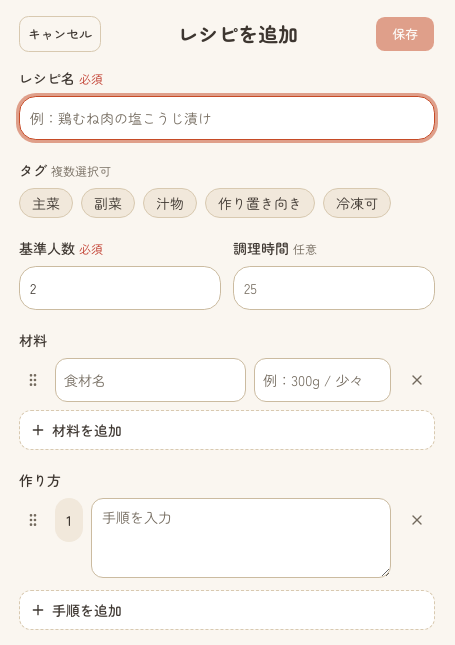
Test case: RecipeFormClient › RFC-04: API が失敗レスポンスのときエラーメッセージを表示する
Type "肉じゃが" into the field labelled "レシピ名 必須" at {"x": 227, "y": 118}, box x1=19 y1=96 x2=435 y2=140
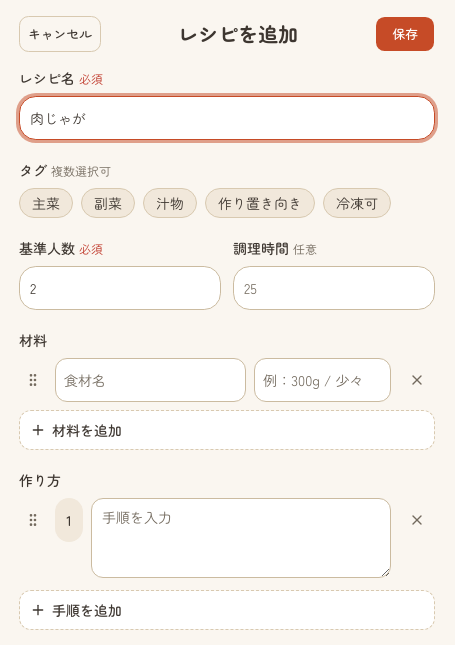
Click the button "保存" at {"x": 405, "y": 34}, box x1=375 y1=16 x2=435 y2=52
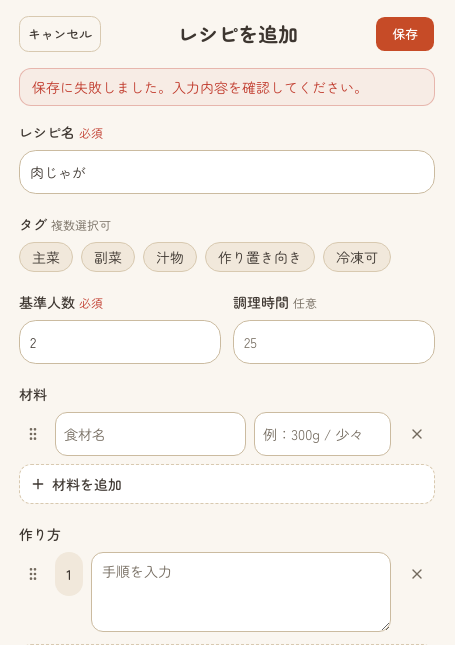
Now the text "保存に失敗しました。入力内容を確認してください。" is shown, box x1=19 y1=68 x2=435 y2=106
